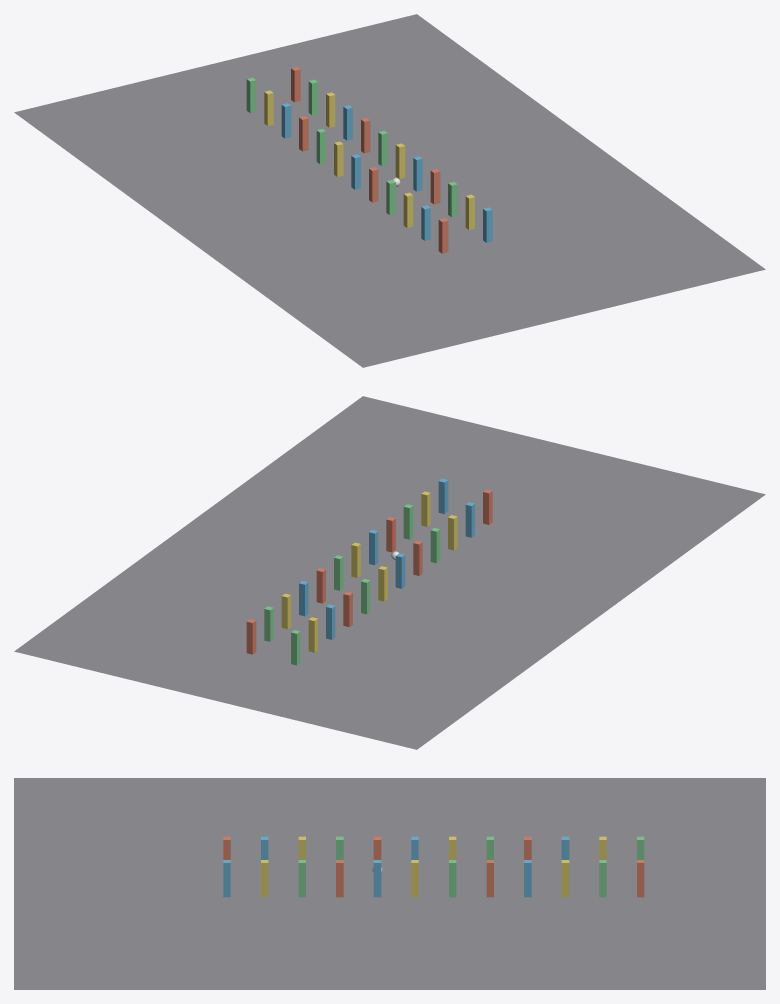
Rendered from camlink_test_geo.fbx.
3 views of the same model, one above another, from view 1: azimuth 30°, elevation 25°; view 2: azimuth 150°, elevation 25°; view 3: azimuth 270°, elevation 25° (orthographic). The views are drawn at different scales.
Parts seen in each view (by area): view 1: ground; view 2: ground; view 3: ground.
Boxes of the visible parts, x1=… form: ground: x1=14, y1=14, x2=765, y2=367; ground: x1=14, y1=396, x2=765, y2=749; ground: x1=14, y1=778, x2=765, y2=989.
Size of the model in its own units: 4000 by 300 by 6000.
